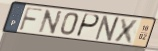0: (59, 12, 81, 37)
F: (17, 6, 44, 33)
N: (93, 15, 123, 43), (37, 9, 64, 36)
P: (74, 13, 101, 40)
X: (112, 17, 142, 46)
